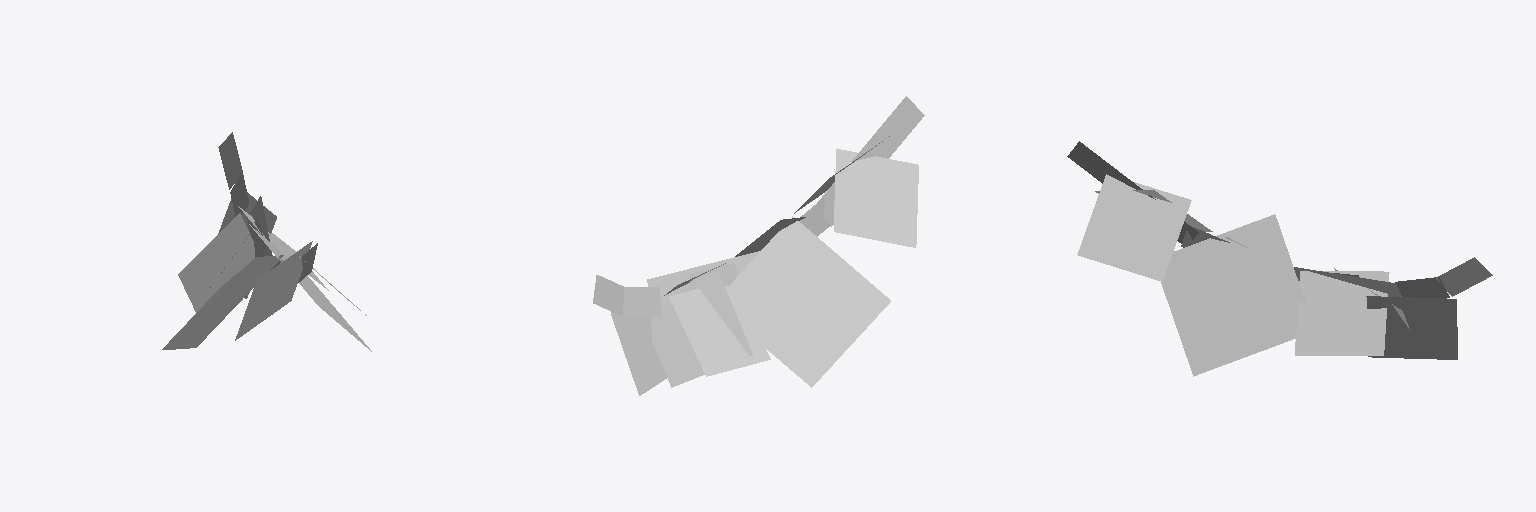
The model's file is spruce_long_branch_1_top.obj.
3 views of the same model, side by side, from view 1: azimuth 30°, elevation 25°; view 2: azimuth 150°, elevation 25°; view 3: azimuth 270°, elevation 25° (orthographic).
Parts seen in each view (by area): view 1: cube.008, cube.005, cube.010, cube.009, cube.002, cube.007; view 2: cube.005, cube.010, cube.008, cube.004, cube.007, cube.011, cube, cube.001, cube.002, cube.000, cube.009, cube.003; view 3: cube.009, cube.012, cube.006, cube.007, cube.011, cube.002, cube.001, cube.
Part boxes in pixels (x1,y1,x2,y2): cube.008: (178, 213, 254, 312); cube.005: (162, 255, 283, 349); cube.010: (235, 241, 312, 340); cube.009: (249, 224, 371, 351); cube.002: (218, 132, 242, 189); cube.007: (218, 192, 276, 298); cube.005: (730, 216, 890, 387); cube.010: (834, 149, 918, 247); cube.008: (669, 286, 770, 376); cube.004: (651, 272, 752, 387); cube.007: (611, 312, 666, 395); cube.011: (817, 96, 924, 226); cube: (647, 251, 759, 306); cube.001: (623, 287, 660, 316); cube.002: (593, 275, 623, 315); cube.000: (799, 198, 830, 236); cube.009: (735, 217, 805, 256); cube.003: (689, 263, 737, 289); cube.009: (1161, 214, 1305, 376); cube.012: (1077, 174, 1191, 281); cube.006: (1295, 271, 1389, 355); cube.007: (1366, 296, 1457, 359); cube.011: (1067, 141, 1198, 243); cube.002: (1435, 257, 1492, 296); cube.001: (1395, 277, 1449, 298); cube: (1294, 267, 1400, 296).
Size of the model in its own units: 1.32 by 1.32 by 2.65.